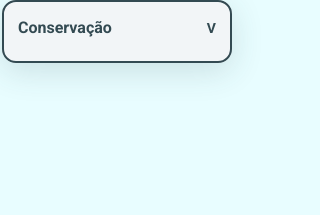
FilterGroup › starts collapsed and expands when the title is clicked
The image size is (320, 215).
Expected: the icon "V" is shown, [207, 20, 216, 36]
Click the button "Conservação V": (117, 28) [18, 14, 216, 41]
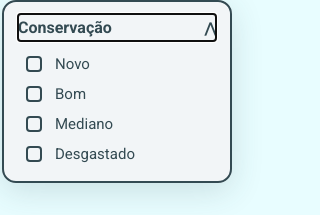
Result: the icon "⋀" is shown at [204, 20, 216, 36]
